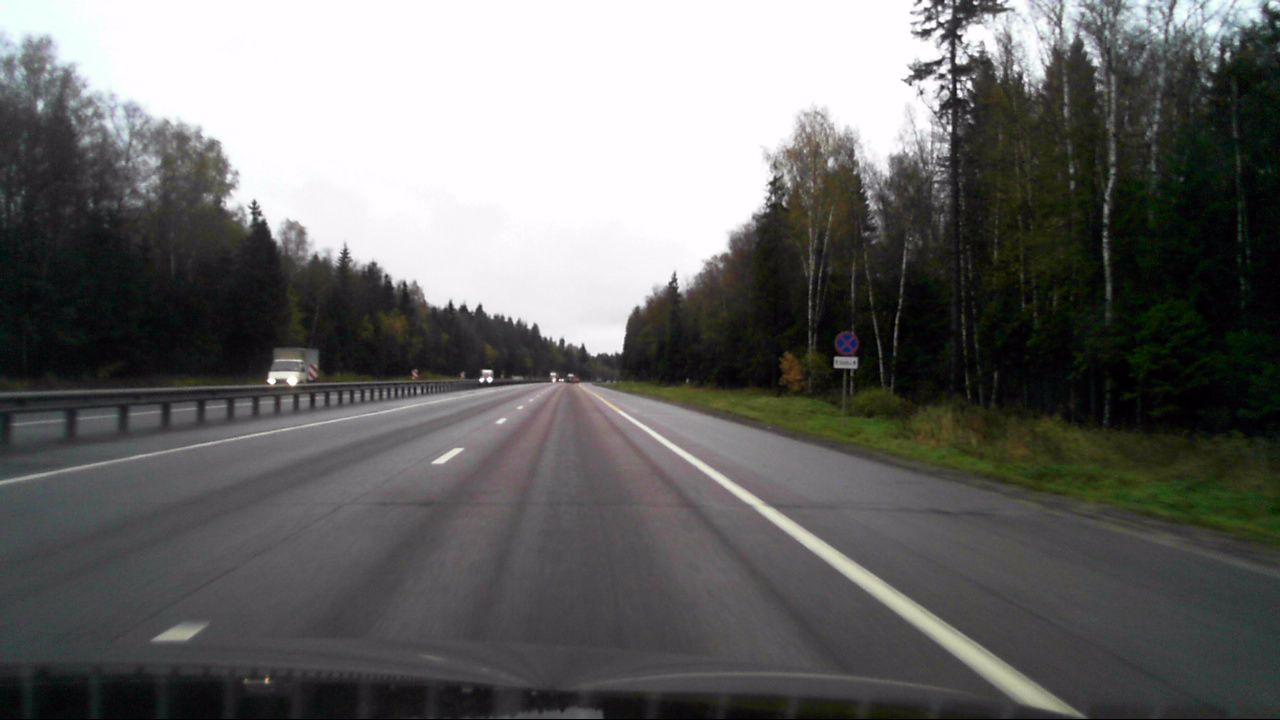No Parking: (834, 332, 858, 356)
